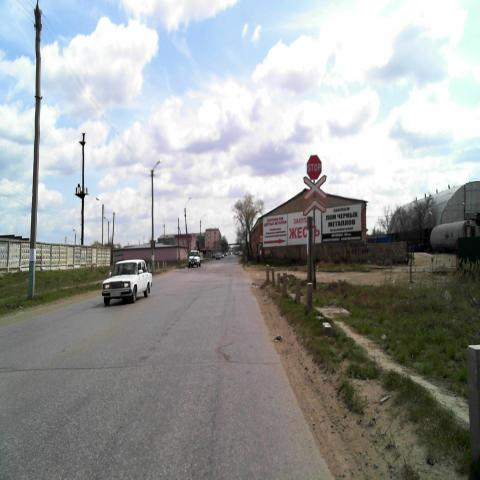2_5: (307, 154, 321, 180)
